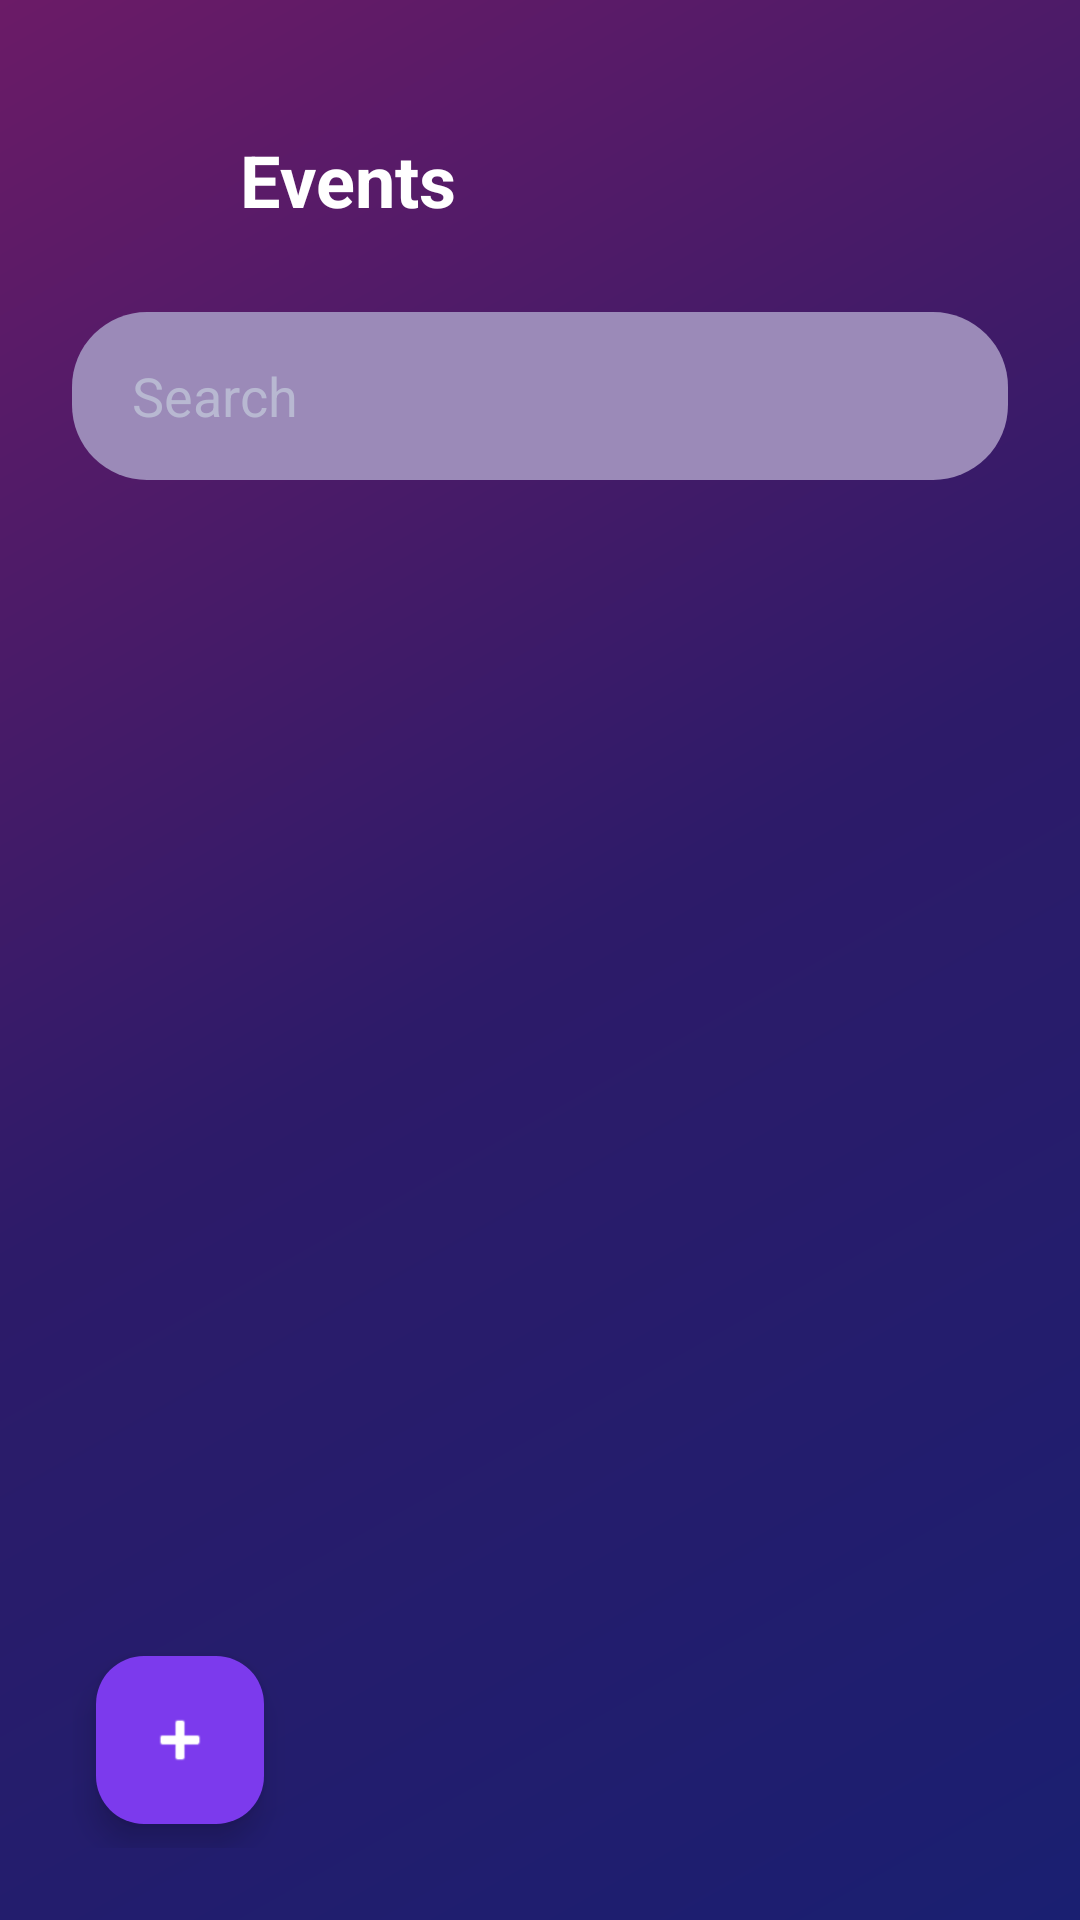

Icon click points for this 1080px x 1920px phone screenshot, format (x,y):
Create Event: (180,1740)
